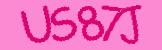7: (101, 5, 126, 40)
8: (77, 5, 104, 40)
J: (120, 5, 141, 44)
S: (50, 6, 77, 41)
U: (20, 5, 51, 43)
